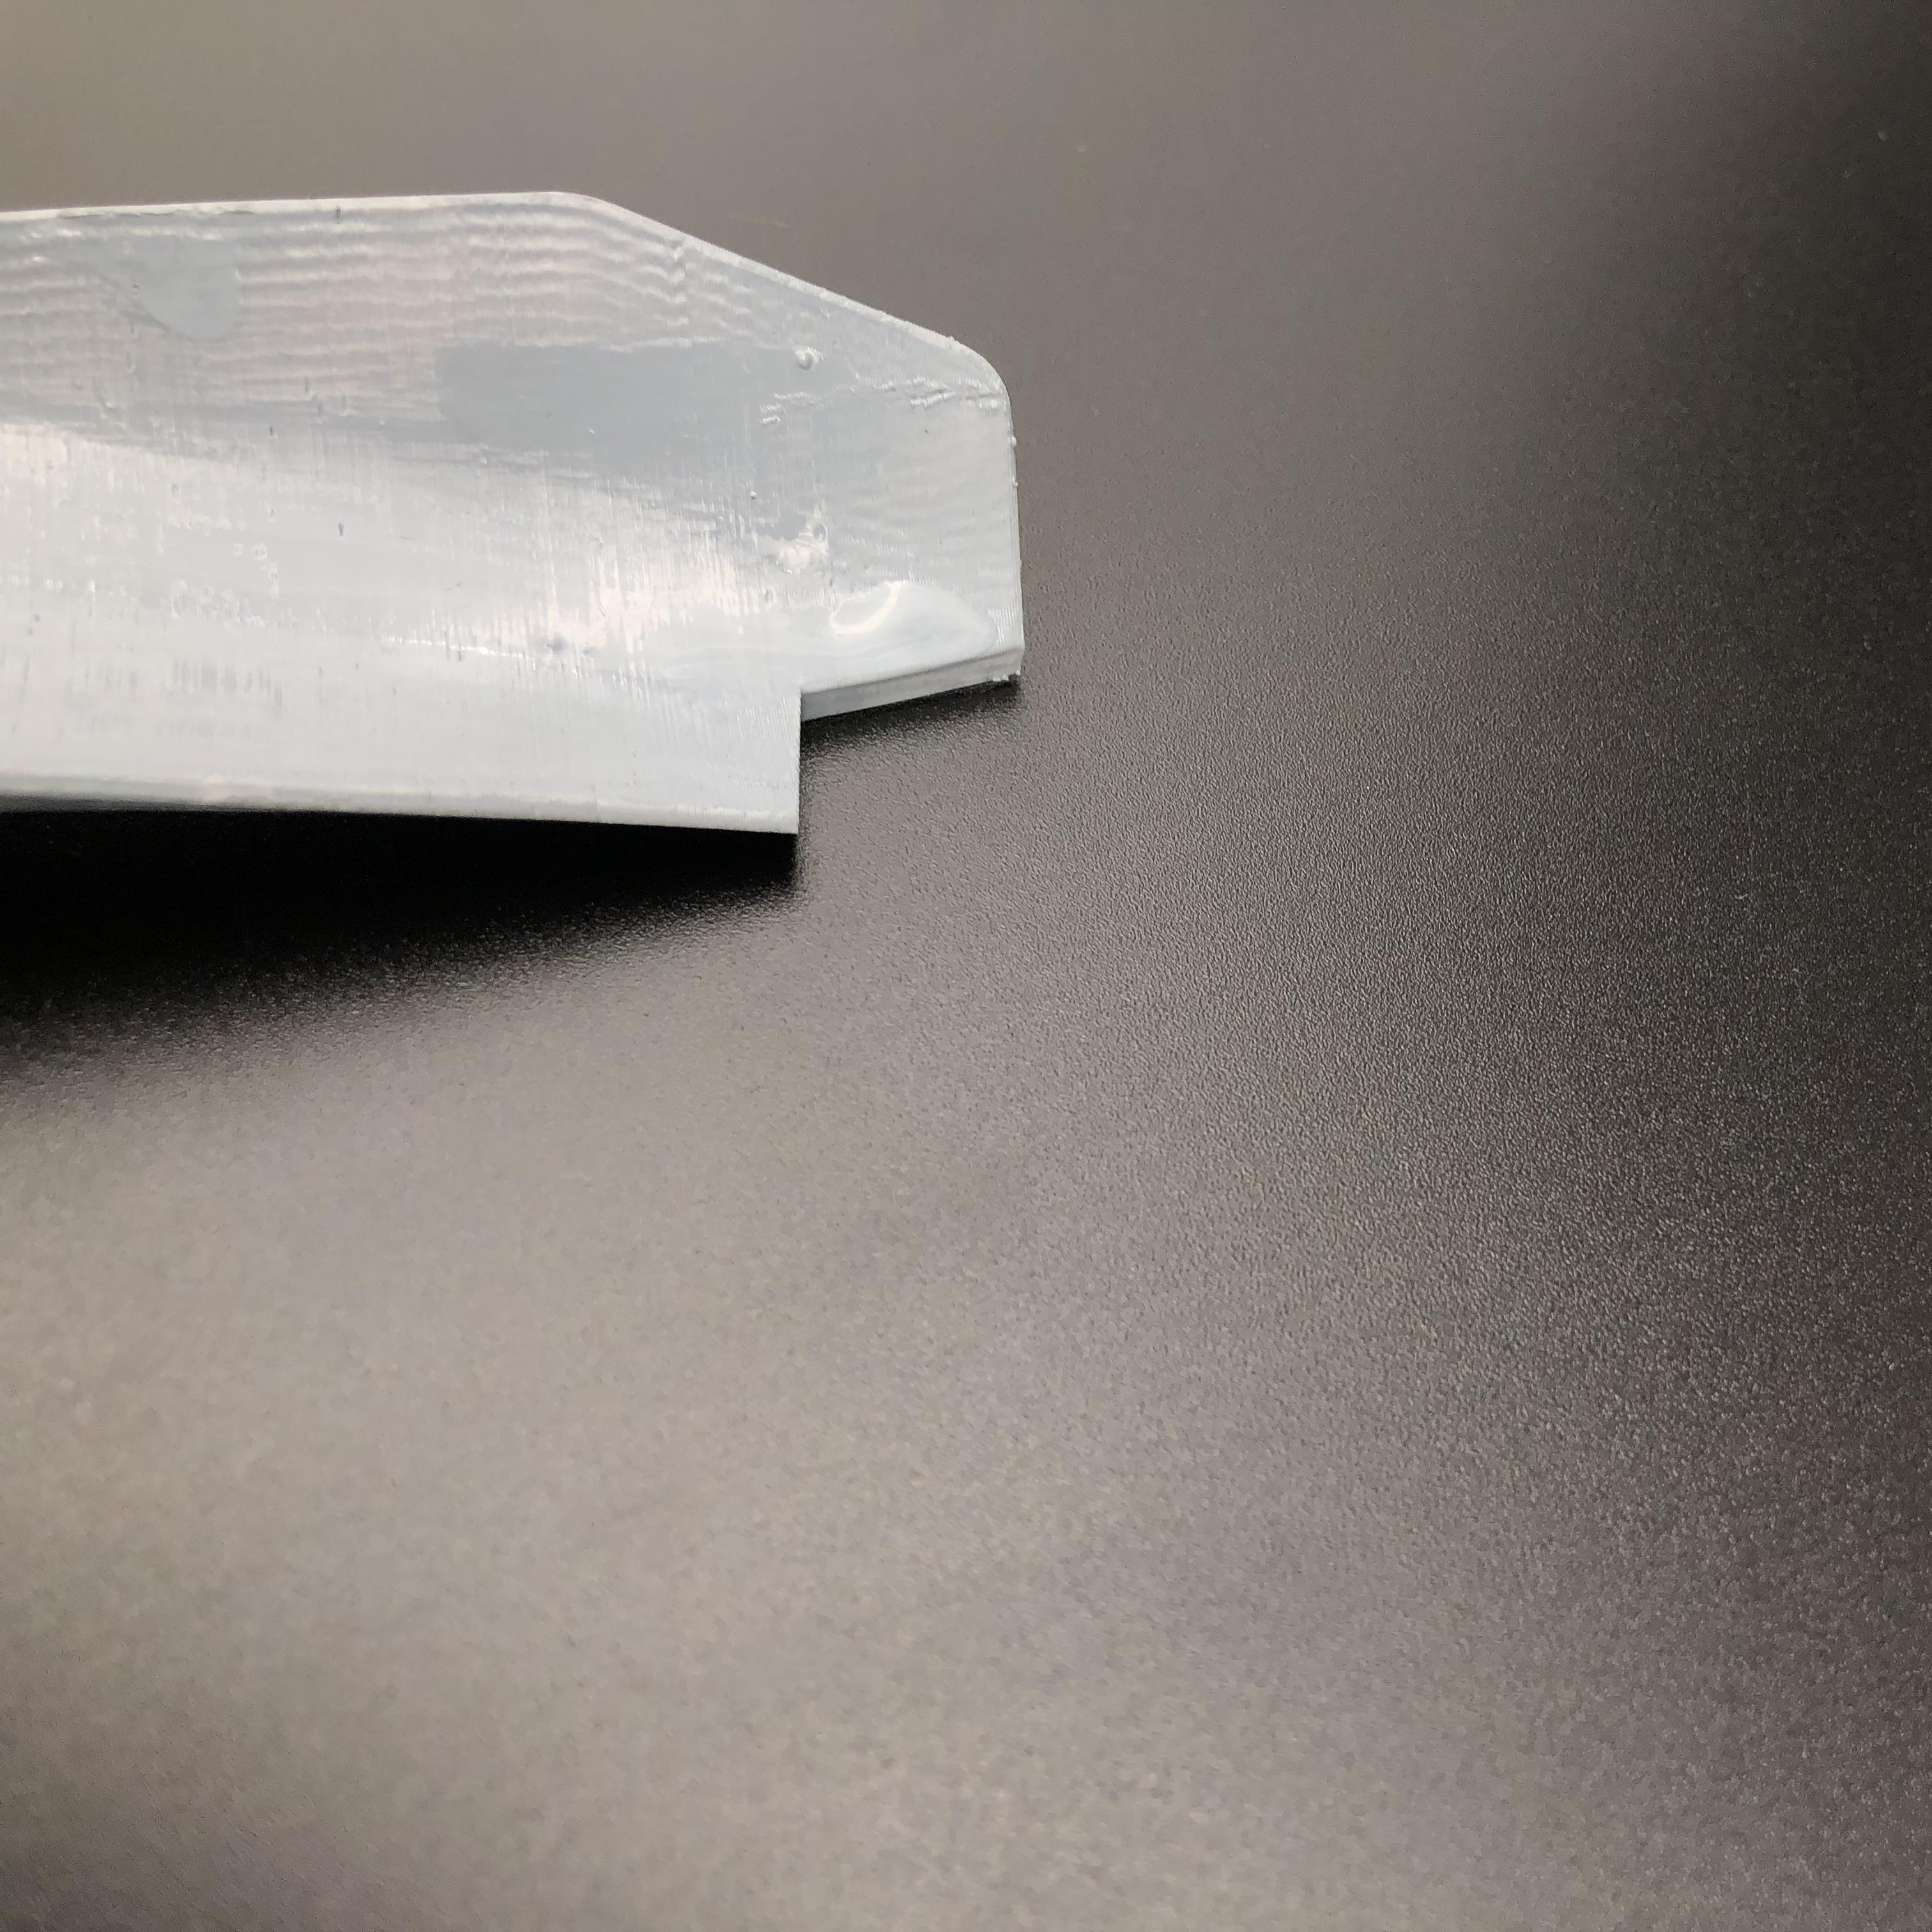fracture: (759, 679, 1014, 870)
